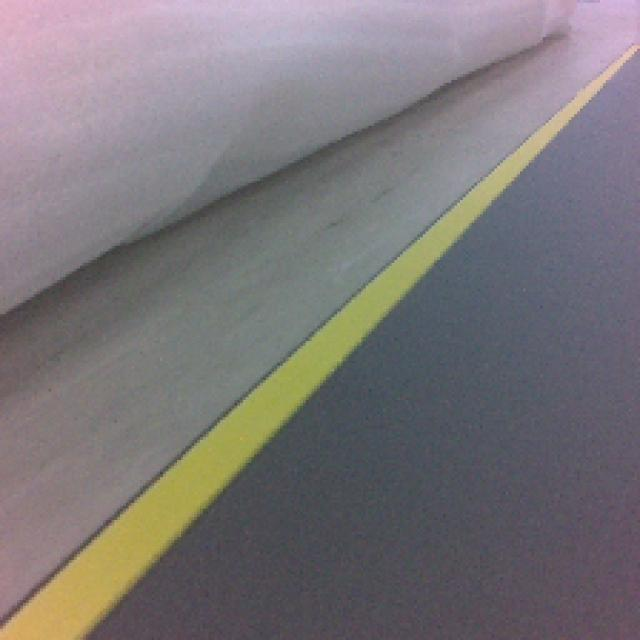Guard rail: (1, 263, 418, 640)
